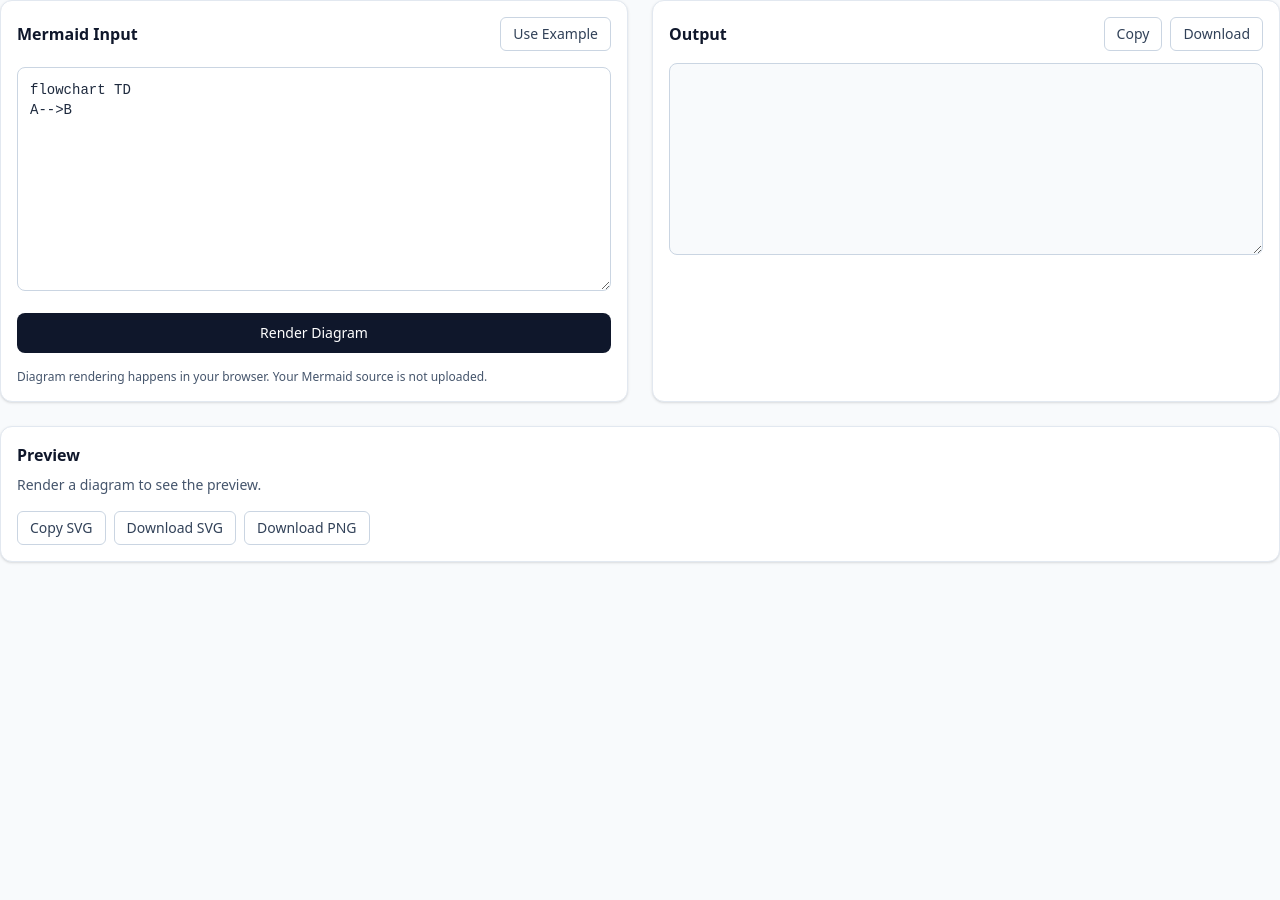
Scenario: MermaidEditorTool › copies rendered svg via quick action
The width and height of the screenshot is (1280, 900).
Step 1. Click the button "Render Diagram" → [314, 333], box left=17, top=313, right=611, bottom=353
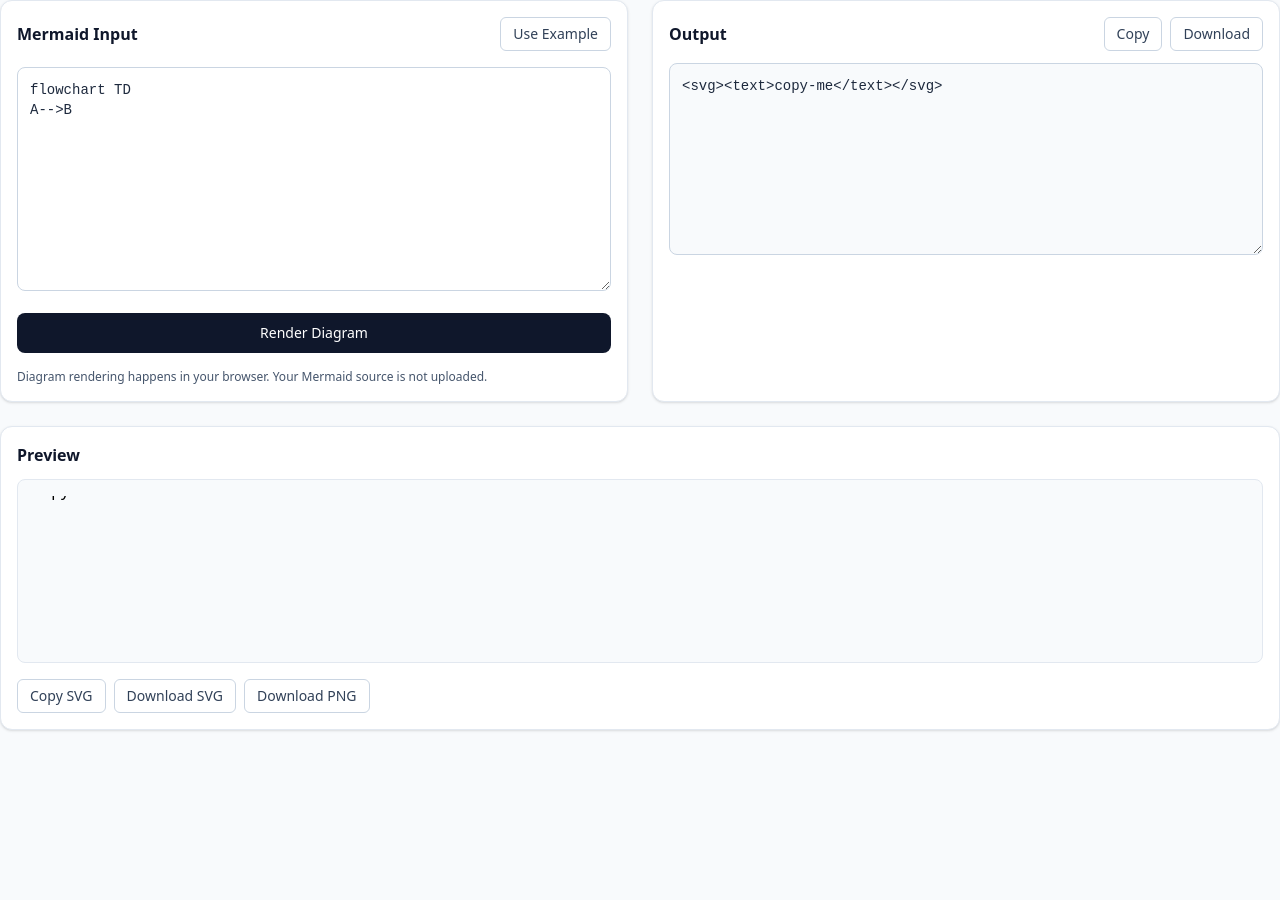
Step 2. Click the button "Copy SVG" → [61, 696], box left=17, top=679, right=106, bottom=713
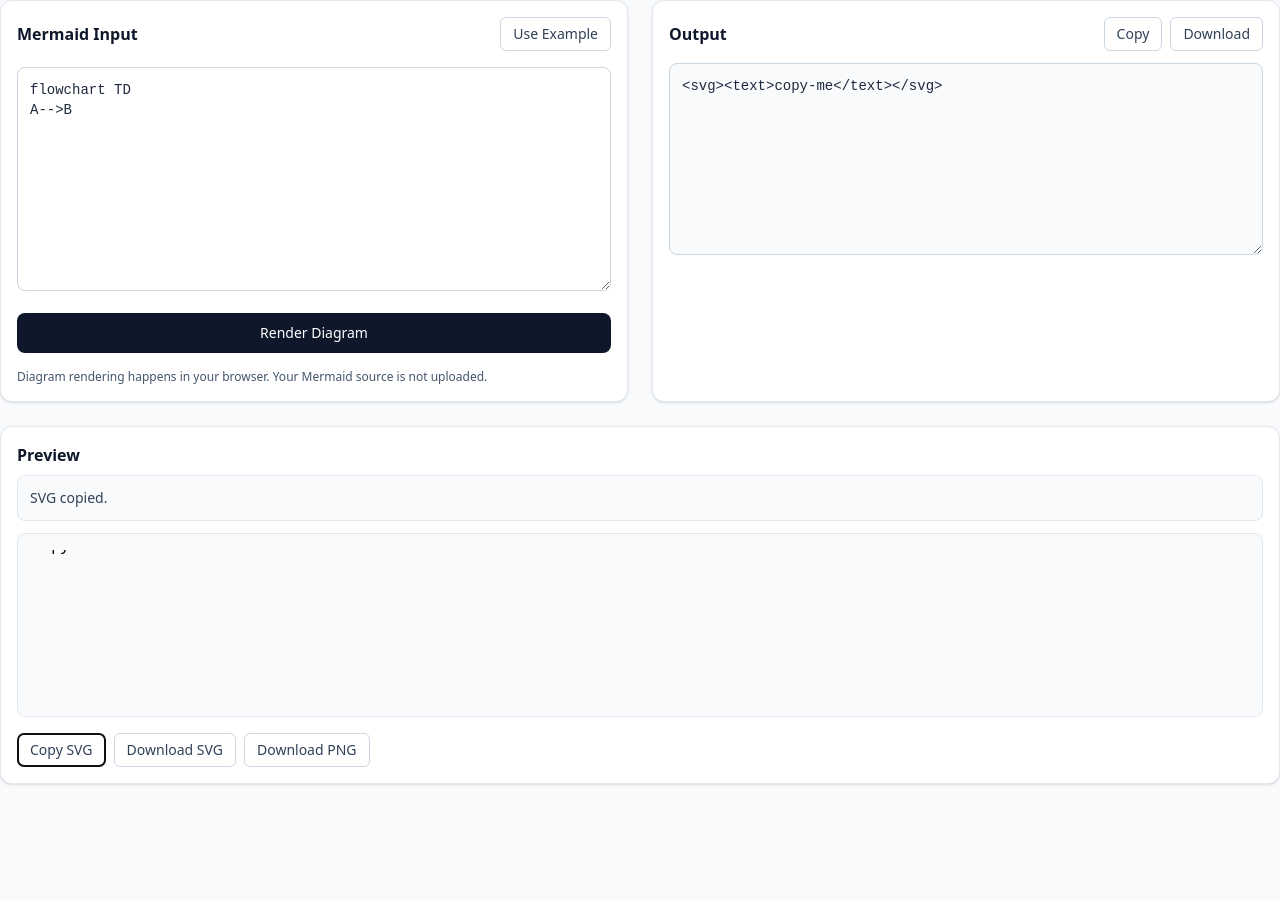
Now the text "SVG copied." is shown, box left=17, top=475, right=1263, bottom=521
